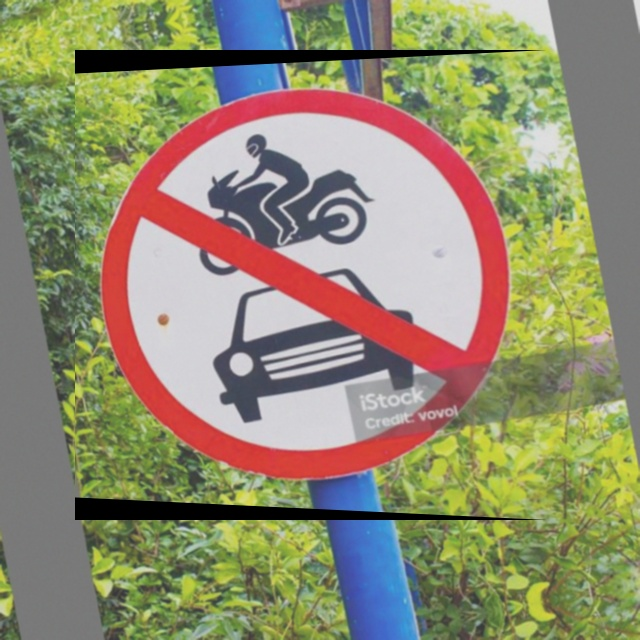All_Motor_Vehicles_Prohibited: (75, 50, 547, 520)
